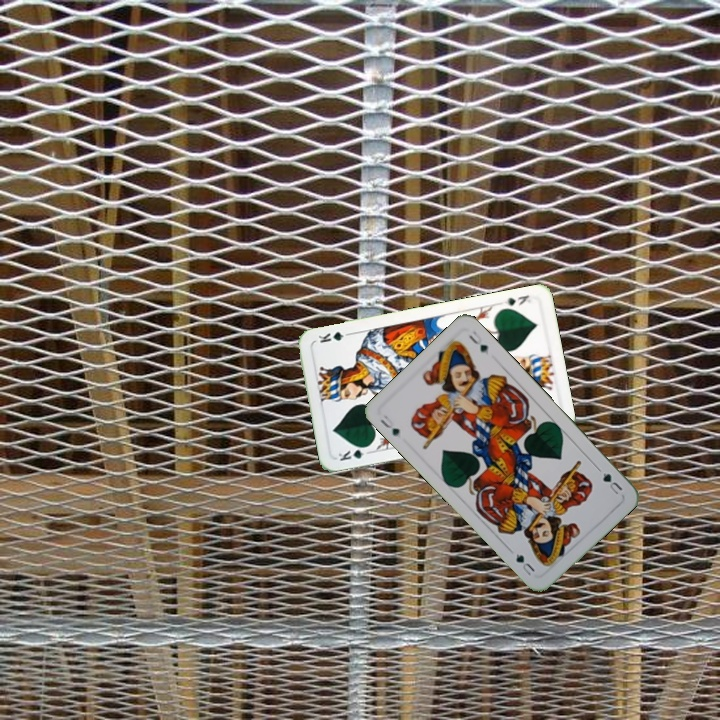GK: (334, 442, 374, 464), (500, 291, 534, 309)
GU: (597, 468, 625, 497), (376, 411, 402, 439)
